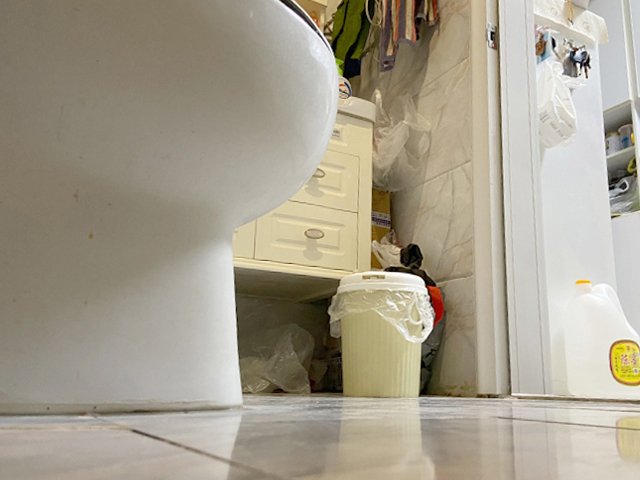closestool: (1, 1, 342, 418)
trashcan: (327, 270, 438, 399)
